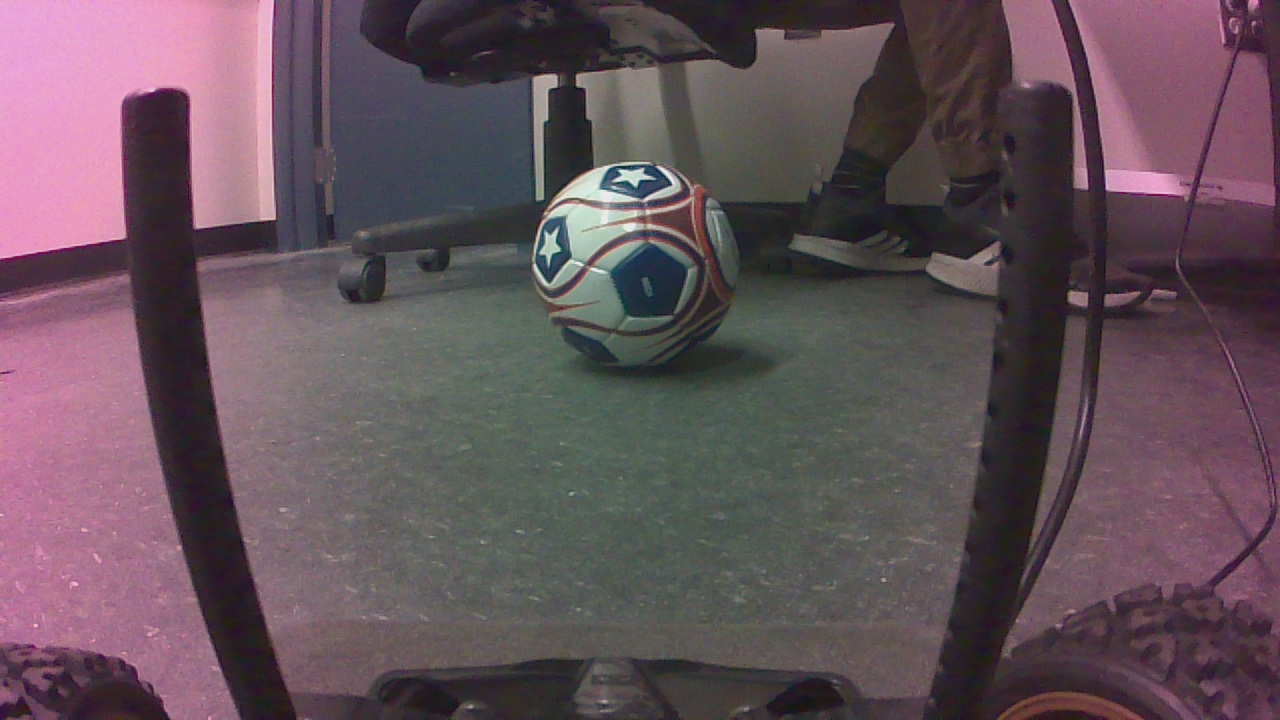ball: (540, 167, 744, 375)
